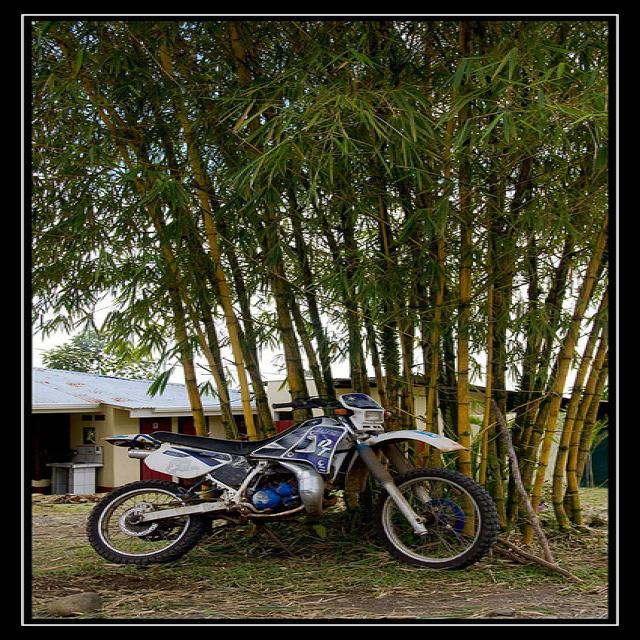motor: (84, 393, 497, 571)
